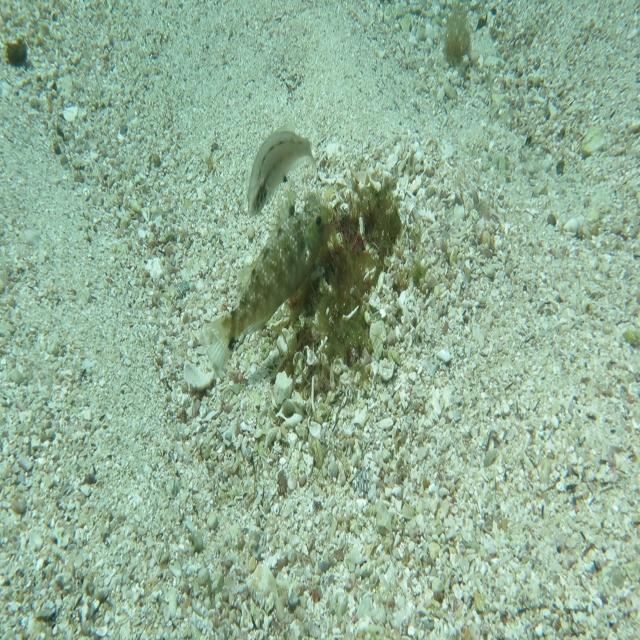core_nest: (330, 205, 389, 262)
female: (202, 191, 332, 377), (246, 122, 317, 218)
nest: (267, 165, 412, 406)
